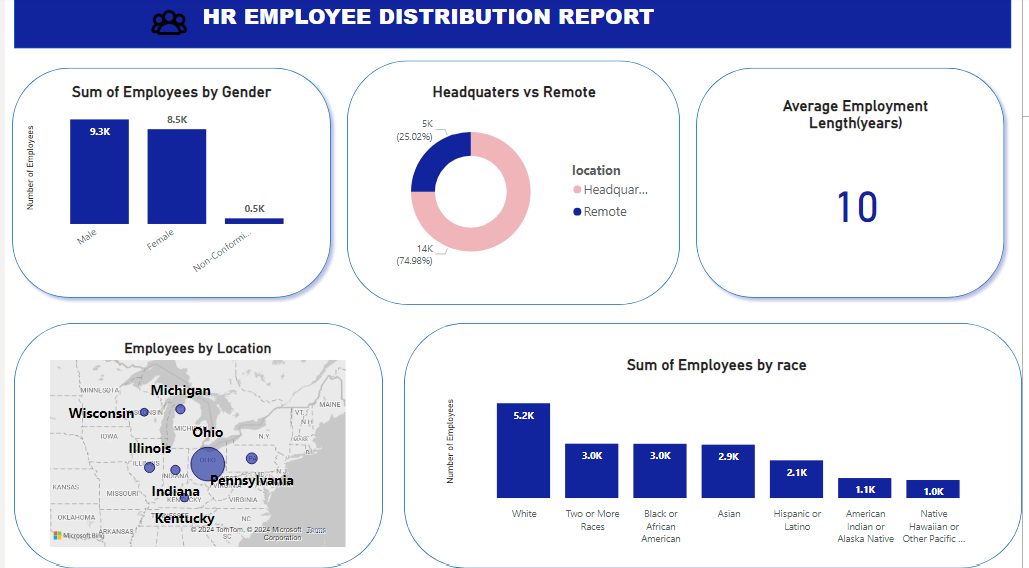

Layout of this report page (visuals, bound fields, positions):
{"tool":"powerbi","page":{"name":"Page 1","canvas":[1280,720],"ordinal":0},"visuals":[{"type":"columnChart","title":"Sum of Employees by Gender","fields":{"Y":["Sum(gender.count)"],"Category":["gender.gender"]},"box":[42.4,120.7,404.4,279.9],"z":0},{"type":"card","title":"Average Employment Length(years)","fields":{"Values":["Sum(avg_length_employment.avg_employment_length)"]},"box":[920.5,120.7,303,279.9],"z":1000},{"type":"donutChart","title":"Headquaters vs Remote","fields":{"Y":["Sum(location.count)"],"Category":["location.location"]},"box":[472.5,120.7,409.5,279.9],"z":2000},{"type":"map","title":"Employees by Location","fields":{"Category":["STATE.location_state"],"Size":["Sum(STATE.count)"]},"box":[42.4,432.7,394.1,279.9],"z":3000},{"type":"clusteredColumnChart","title":"Sum of Employees  by race","fields":{"Category":["RACE.race"],"Y":["Sum(RACE.count)"]},"box":[472.5,425,751.1,287.6],"z":4000},{"type":"shape","box":[42.4,41.1,1181.1,69.3],"z":4001},{"type":"textbox","box":[261.9,53.9,676.6,43.7],"z":4002}]}

Visuals, with their boxes in screenshot pixels (x1, y1, x2, y2), scaled from the page's 1280x720 canvas onto the 1029x568 screenshot:
"Sum of Employees by Gender" columnChart: l=34, t=95, r=359, b=316
"Average Employment Length(years)" card: l=740, t=95, r=984, b=316
"Headquaters vs Remote" donutChart: l=380, t=95, r=709, b=316
"Employees by Location" map: l=34, t=341, r=351, b=562
"Sum of Employees  by race" clusteredColumnChart: l=380, t=335, r=984, b=562
shape: l=34, t=32, r=984, b=87
textbox: l=211, t=43, r=754, b=77
